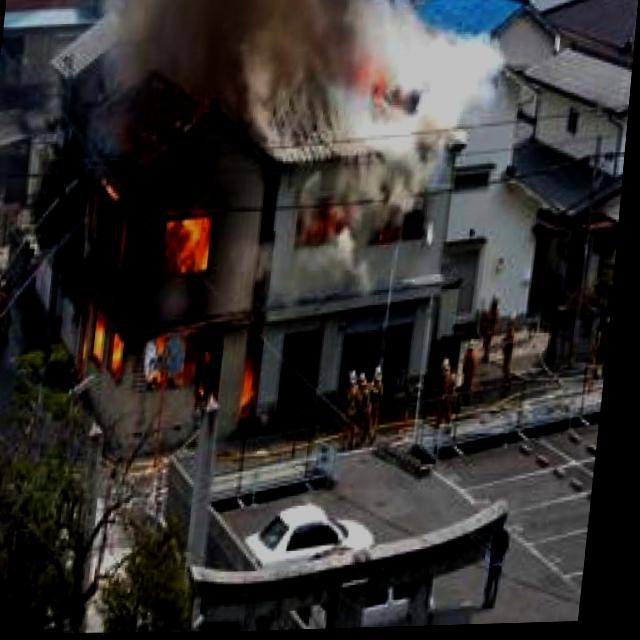Fire: (45, 168, 290, 431)
Smoke: (93, 0, 511, 155)
